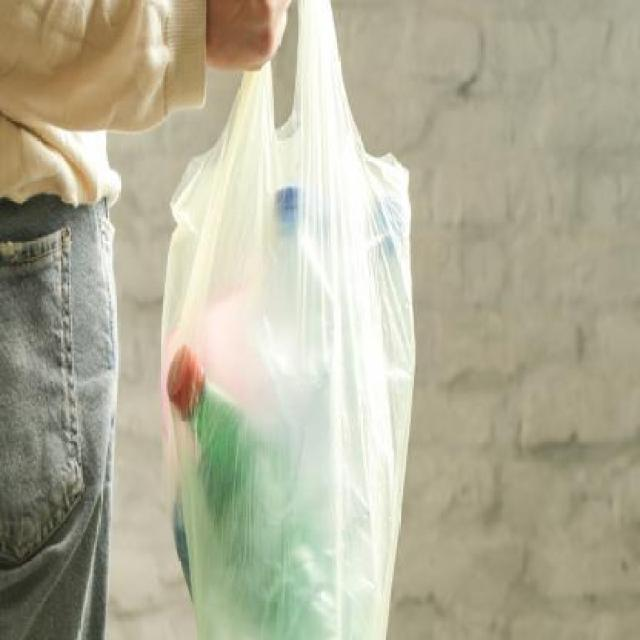plastic bag: (154, 0, 420, 638)
